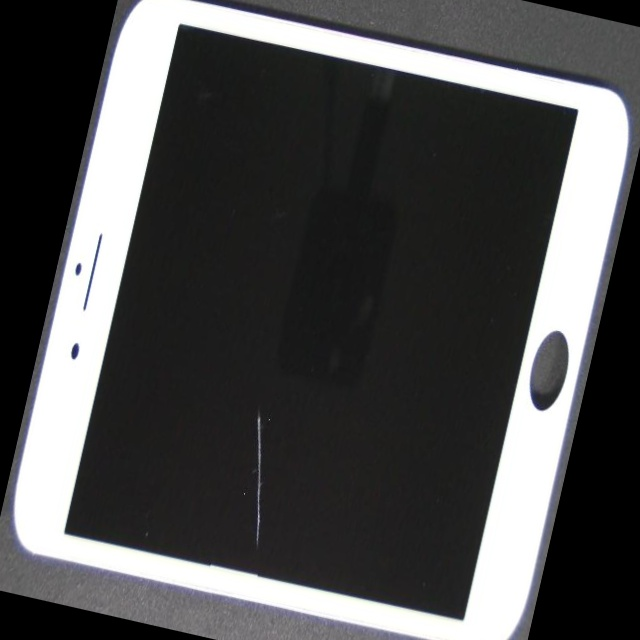scratch: (68, 70, 444, 640)
